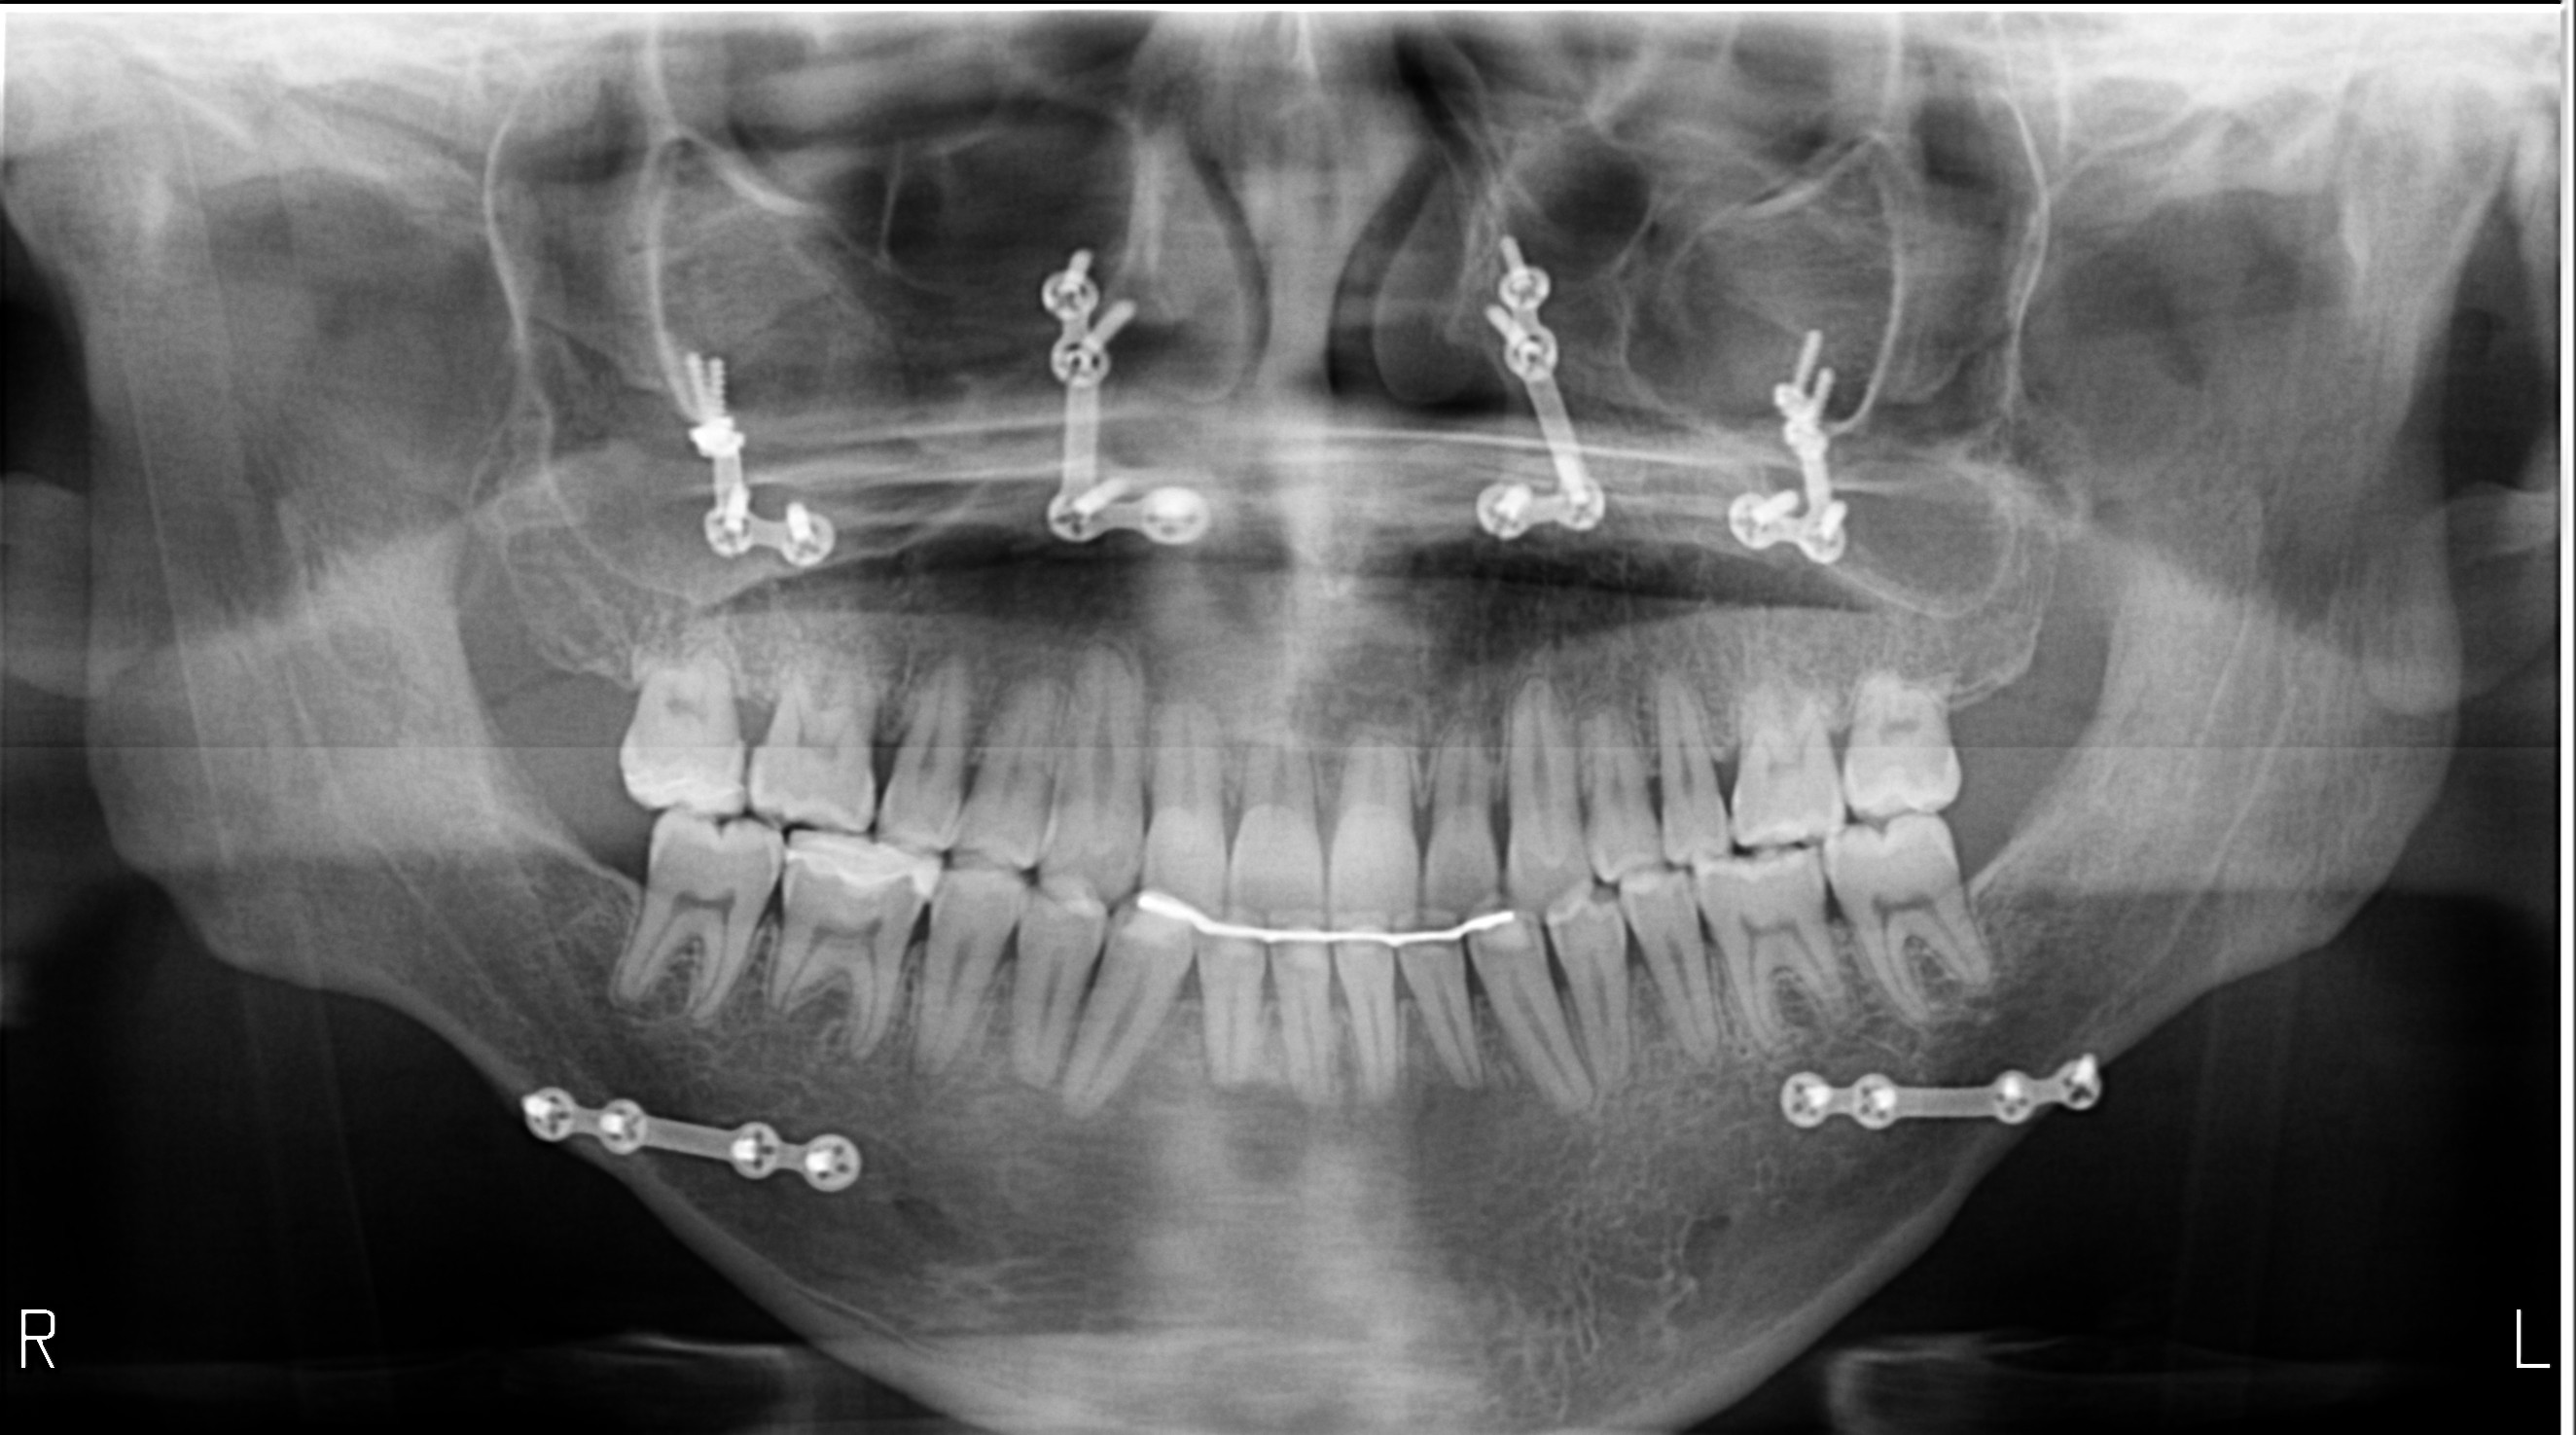APS: (1327, 703, 1431, 772), (1239, 687, 1318, 756), (1150, 675, 1230, 740)
OBT: (765, 822, 970, 915)
ORD: (1122, 882, 1549, 951)
SRD: (507, 1037, 945, 1244), (996, 253, 1265, 553), (1438, 201, 1618, 571), (1747, 1006, 2148, 1166), (1701, 295, 1912, 590), (671, 304, 859, 585)
